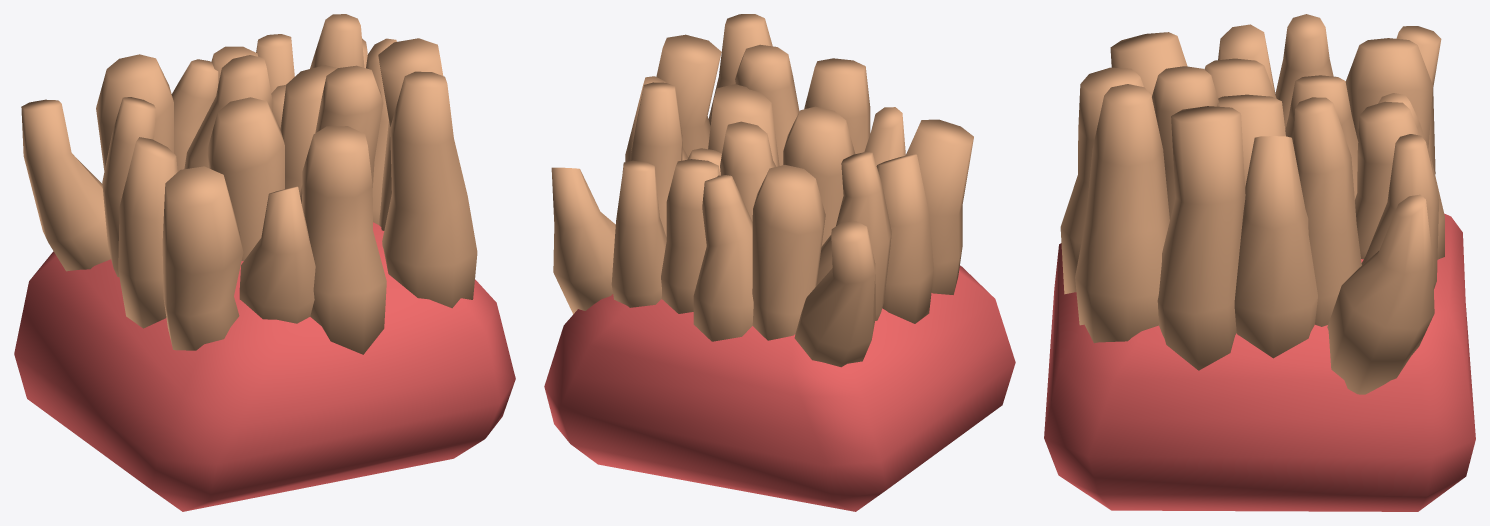
Rendered from Seeanemone.gltf.
The picture shows the model from 3 angles, left to right: view 1: azimuth 30°, elevation 25°; view 2: azimuth 150°, elevation 25°; view 3: azimuth 270°, elevation 25°; orthographic projection. The views are drawn at different scales.
Visible parts, largest first — view 1: AnemoneBase; view 2: AnemoneBase; view 3: AnemoneBase.
Boxes of the visible parts, bbox=[...] form: AnemoneBase: bbox=[14, 14, 515, 511]; AnemoneBase: bbox=[544, 14, 1015, 511]; AnemoneBase: bbox=[1044, 14, 1475, 511].
Size of the model in its own units: 0.7279 by 0.7384 by 0.71.
